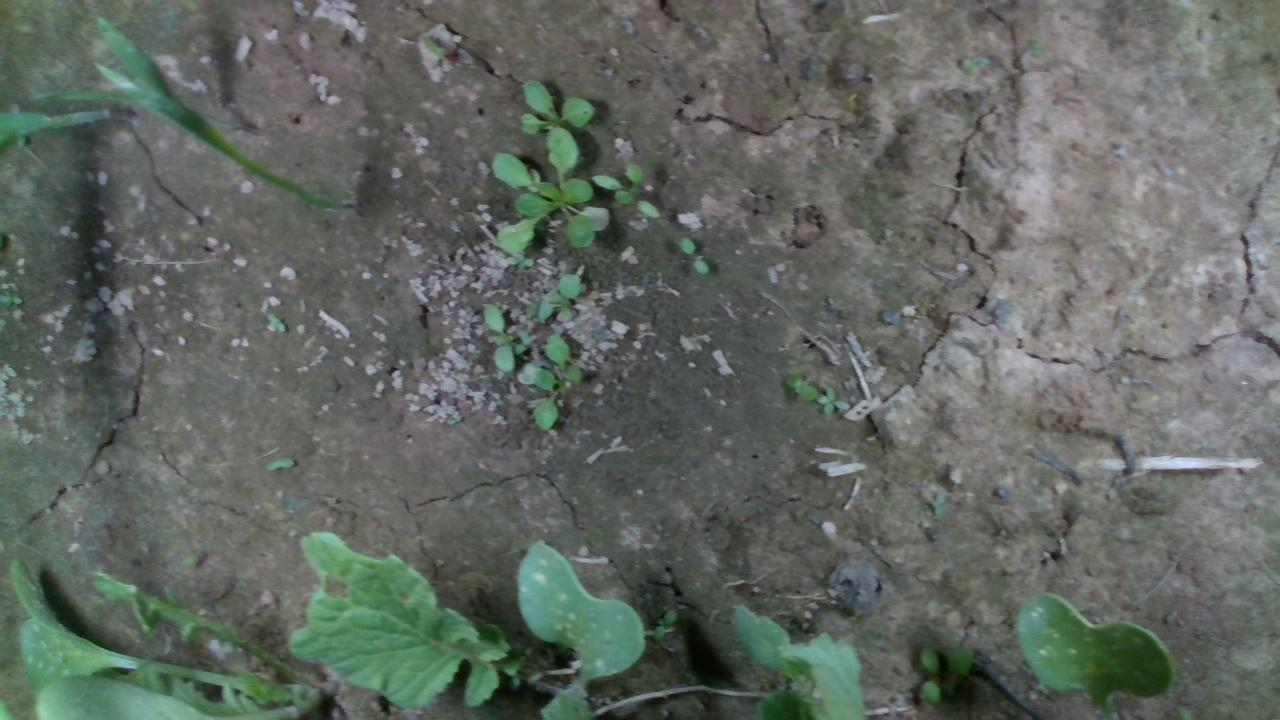weed: (678, 234, 708, 276), (262, 456, 295, 470)
